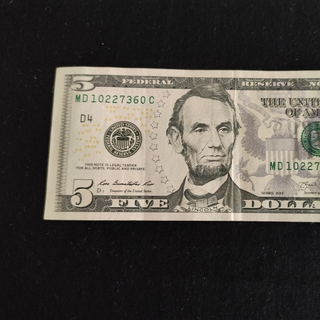5USDFront: (43, 66, 320, 224)
